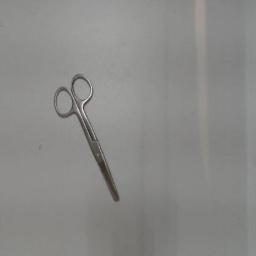Dressing Scissors: (48, 64, 124, 210)
